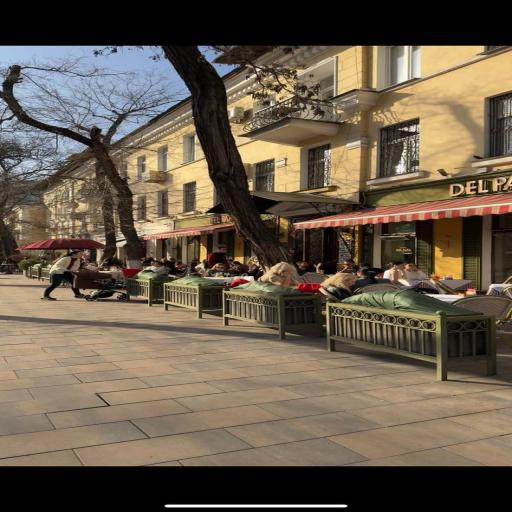bus: (452, 296, 511, 328), (429, 279, 458, 295), (355, 284, 400, 293), (319, 288, 340, 301), (302, 273, 327, 283), (501, 286, 511, 298), (503, 276, 511, 283)
shelf: (0, 276, 511, 465)
